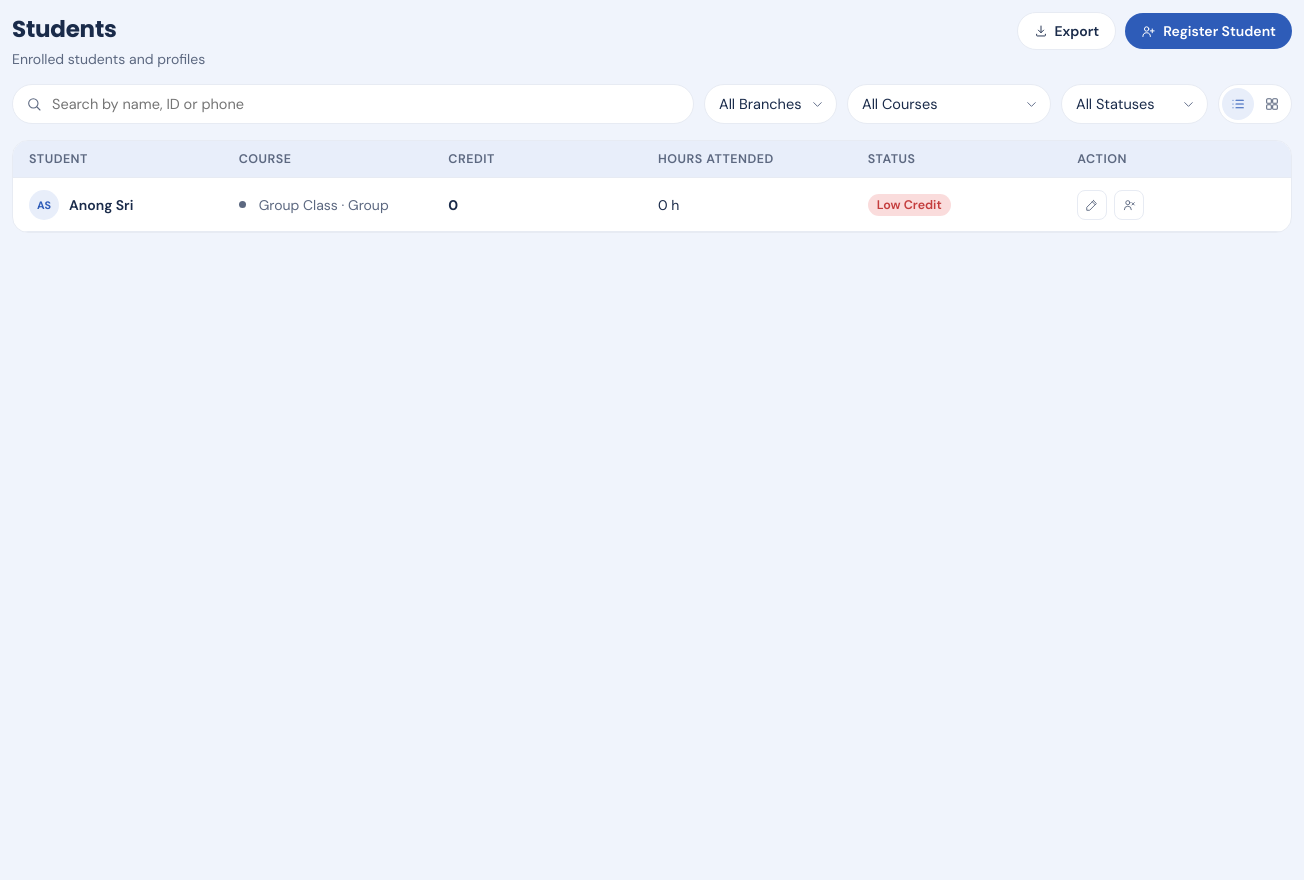
it: a write the server accepts and does not perform › catches a column the server does not have at all
This screenshot has width=1304, height=880.
Click the text "Anong Sri" at (101, 204), box [69,196,133,214]
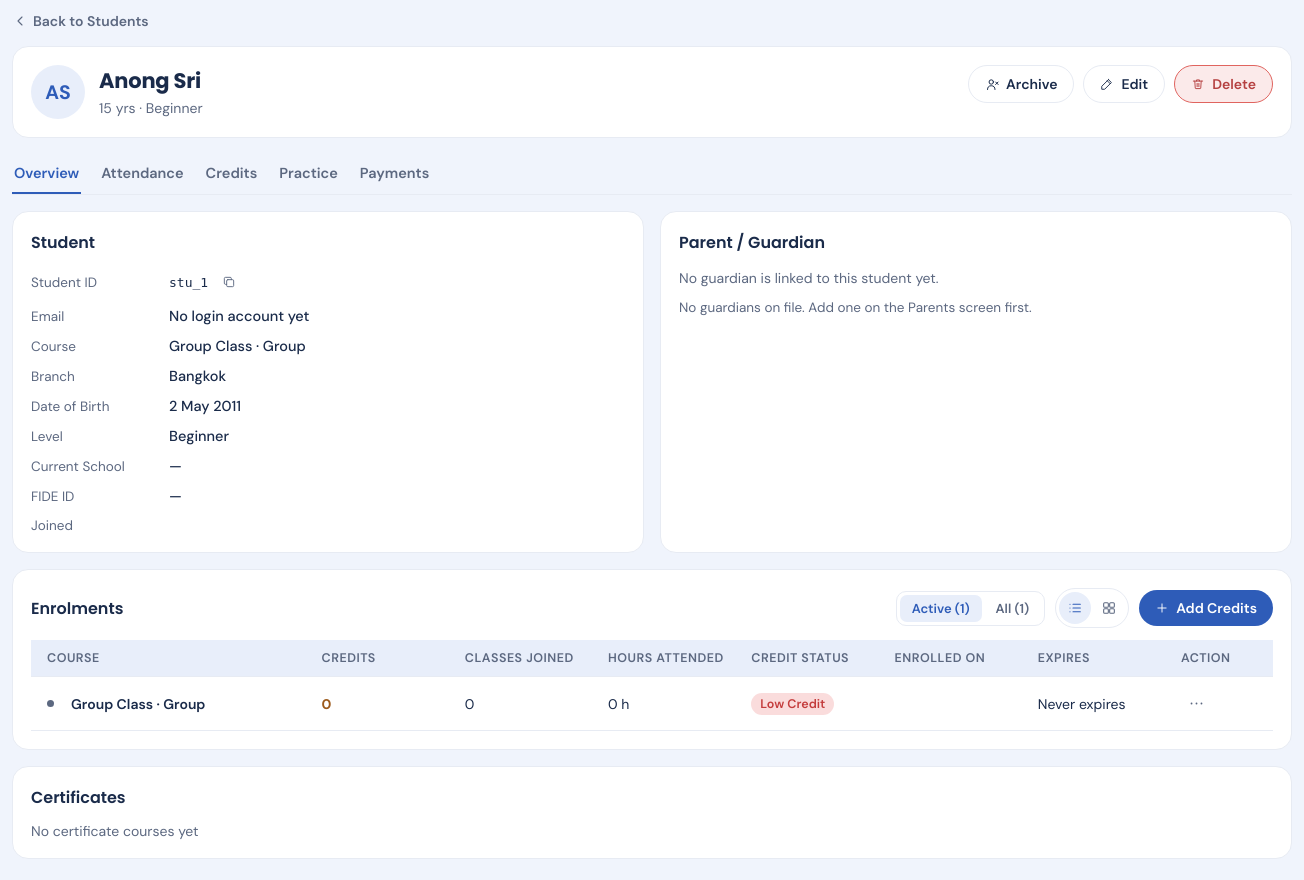
Expected: the button "Back to Students" is shown, [12,12,149,30]
Click the button "Edit" at (1124, 84), box [1084,65,1165,103]
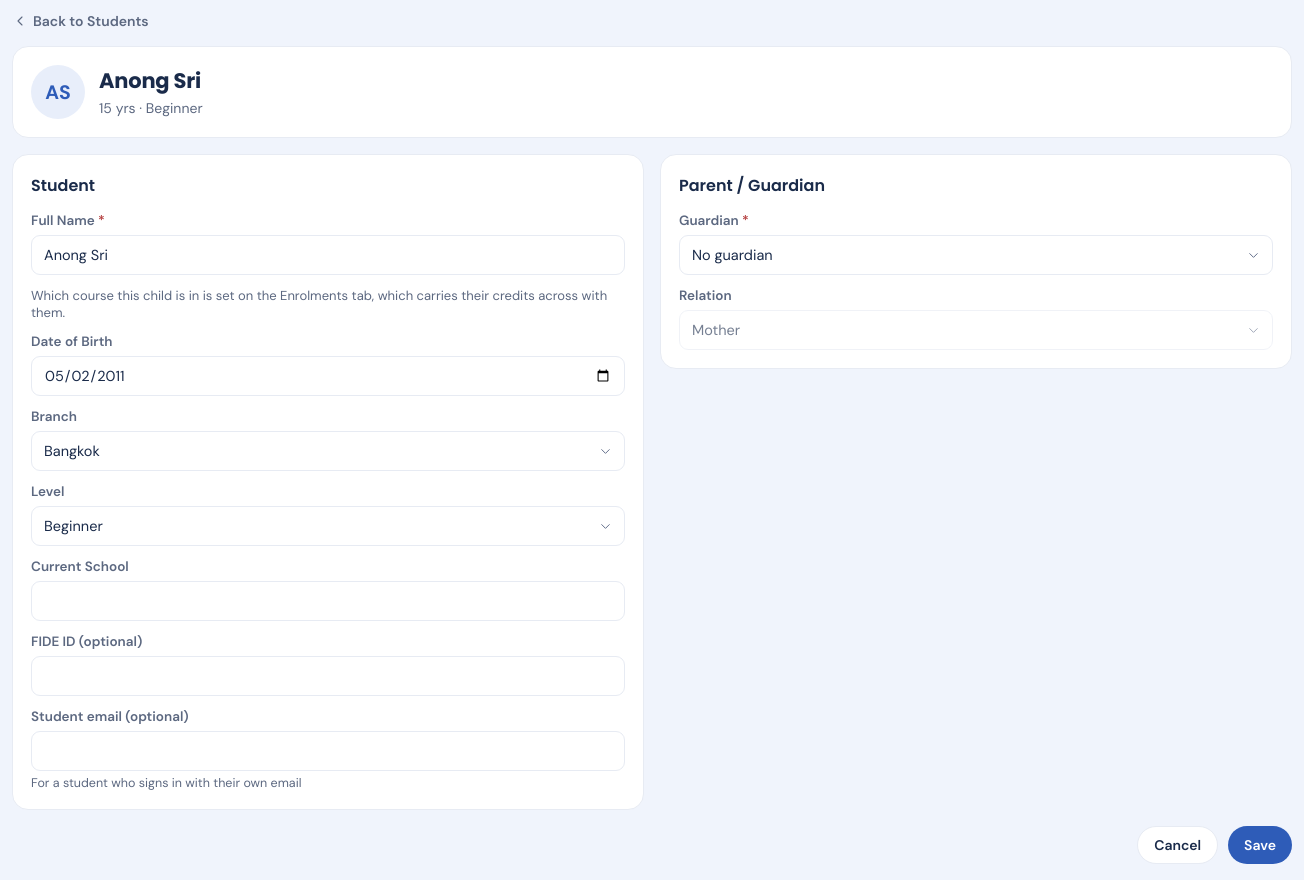
Type "2014-03-09" into the date field labelled "Date of Birth" at (328, 376), box [31,356,625,396]
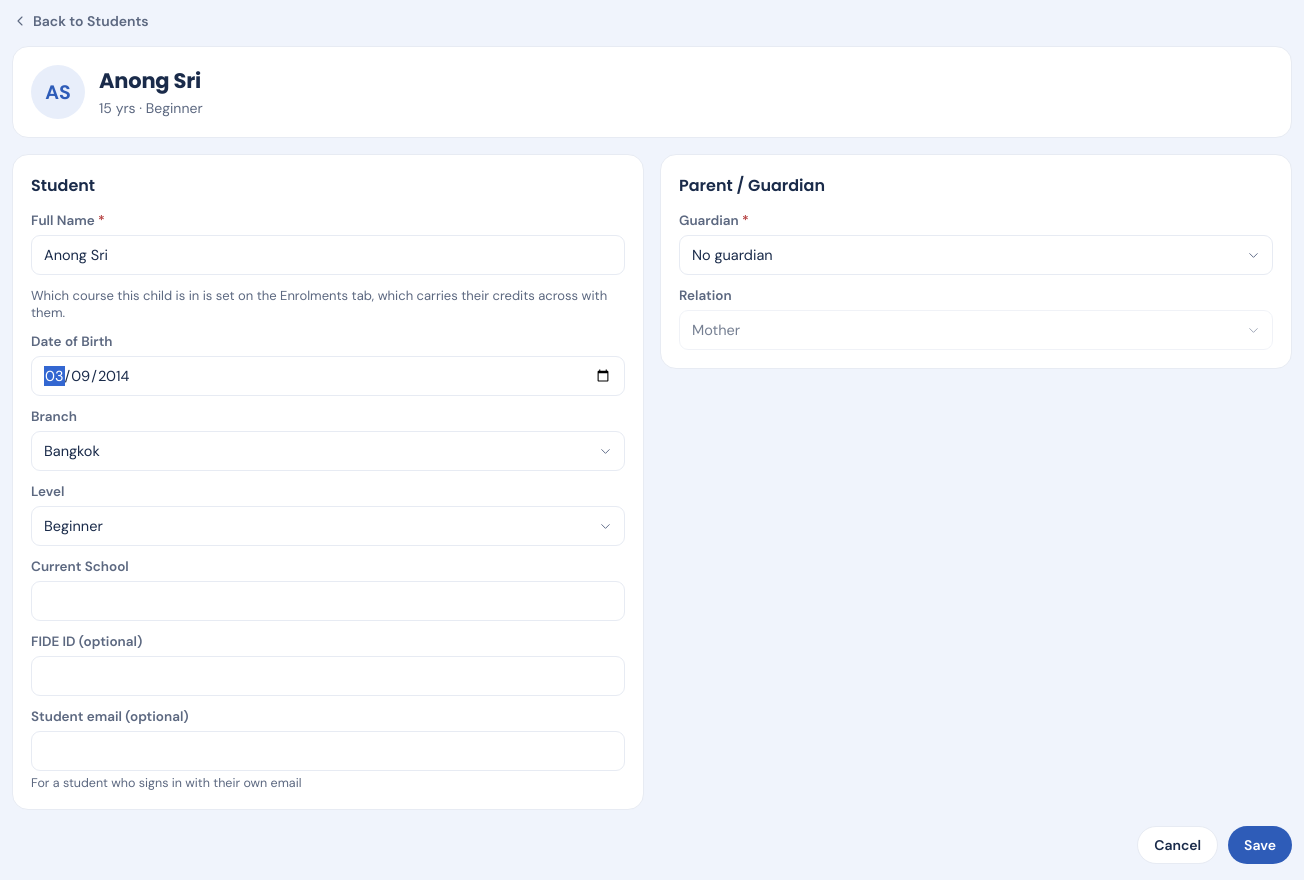
Click the button "Save" at (1260, 845), box [1228,826,1292,864]
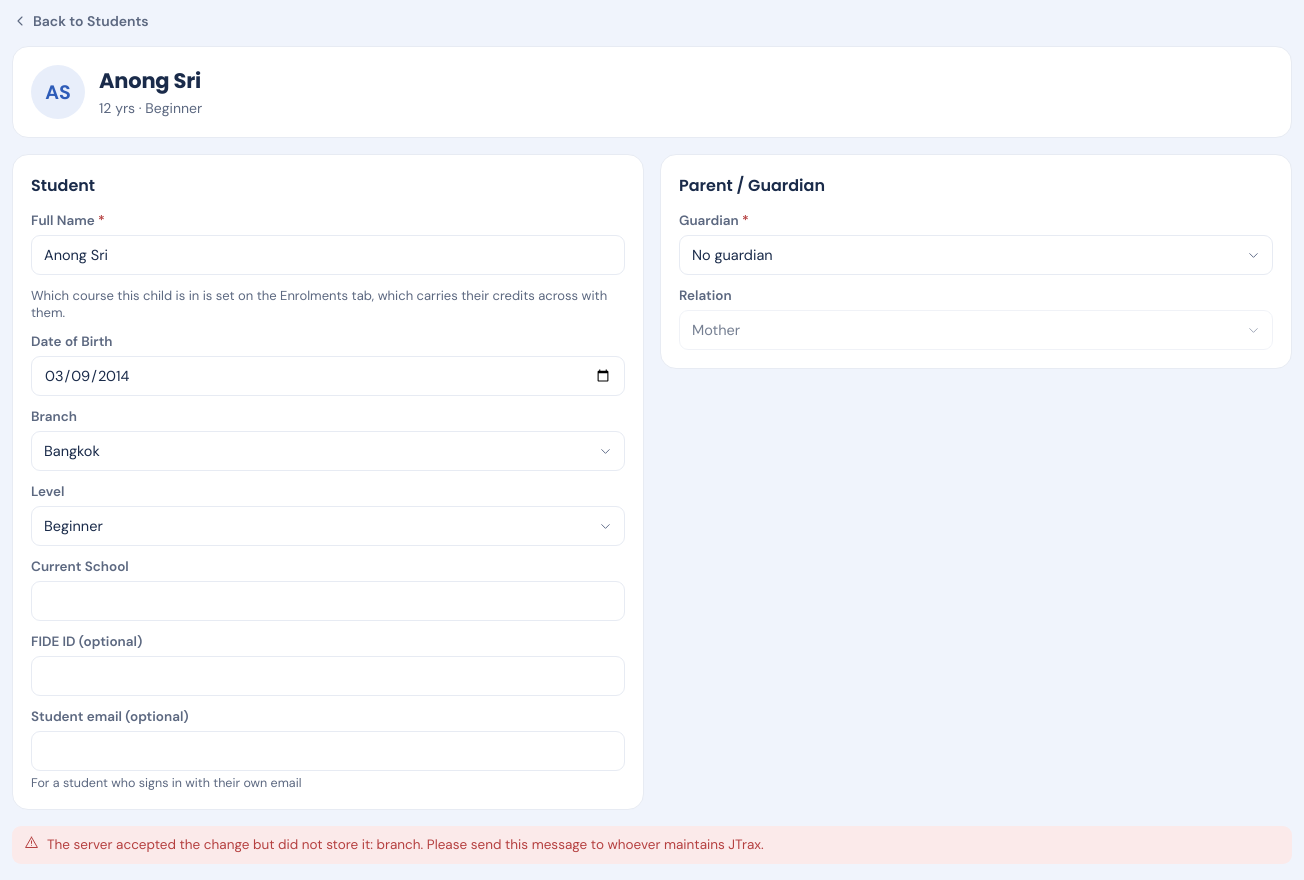
Expected: the text "branch" is shown, [47,836,764,853]
